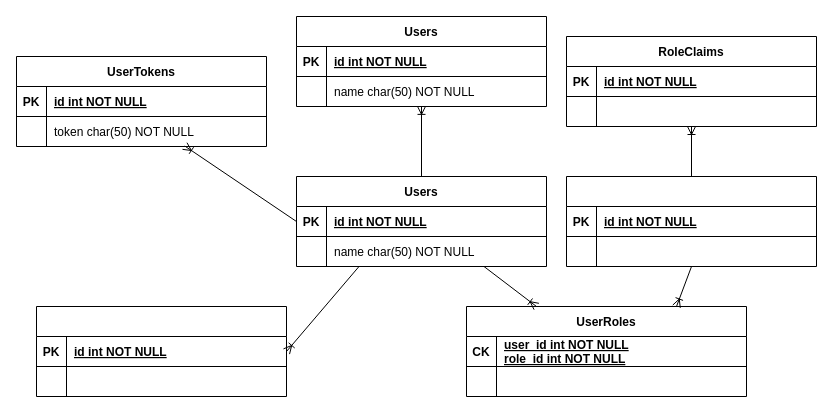
This 833x413 diagram has some shape labels left out. Here are the shapes that lost their labels. From the top down, the box of each, then its label:
(566, 176, 816, 266): Roles
(36, 306, 286, 396): UserLogins
